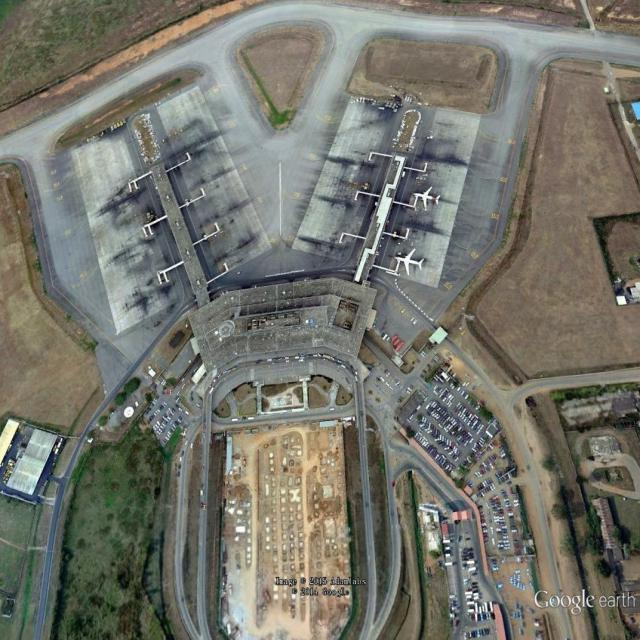aircraft: (392, 247, 429, 280), (413, 183, 445, 213)
